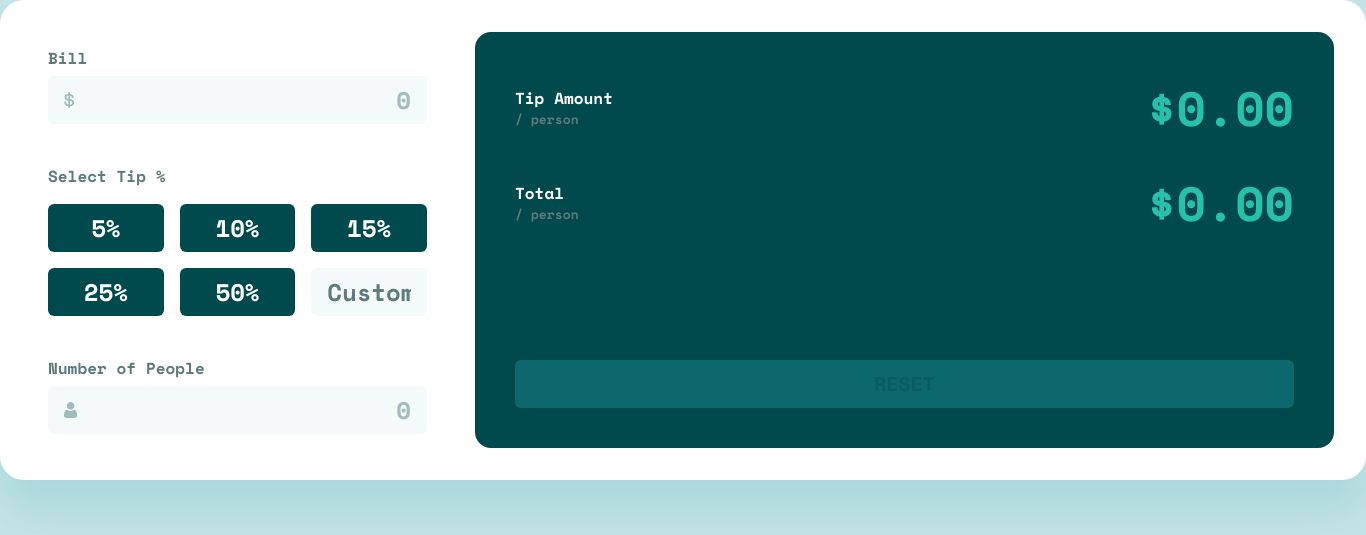
Calculator form component › should display validation errors if required values is not provided
Click the button "10%" at (238, 228), box [180,204,295,252]
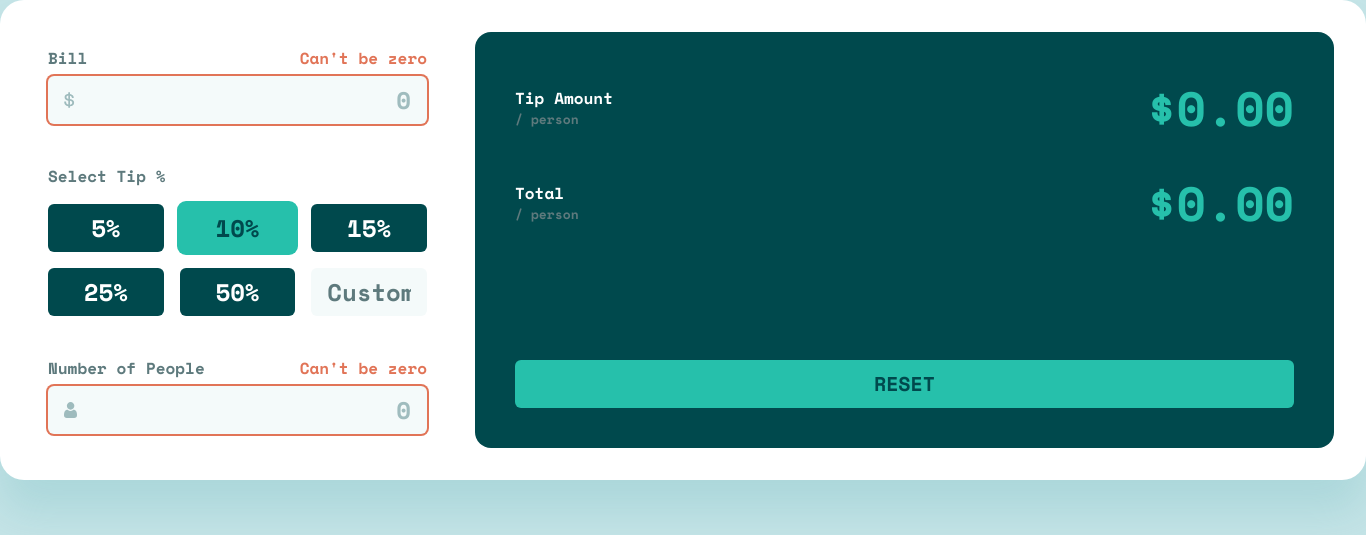
Now the text "Can't be zero" is shown 2 times, box [300,46,427,70]; [300,356,427,380]
